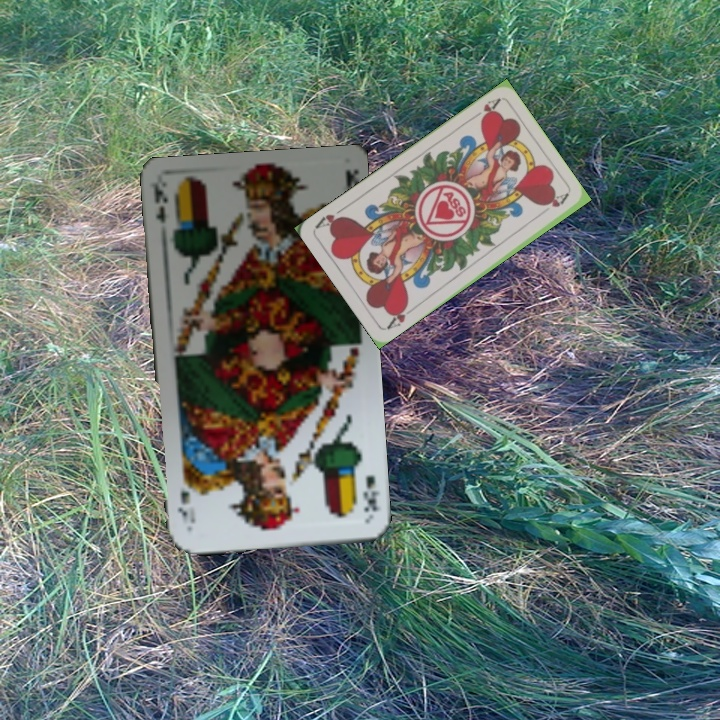EK: (359, 472, 382, 514), (150, 182, 170, 226)
HA: (382, 299, 418, 332), (466, 95, 502, 125)
